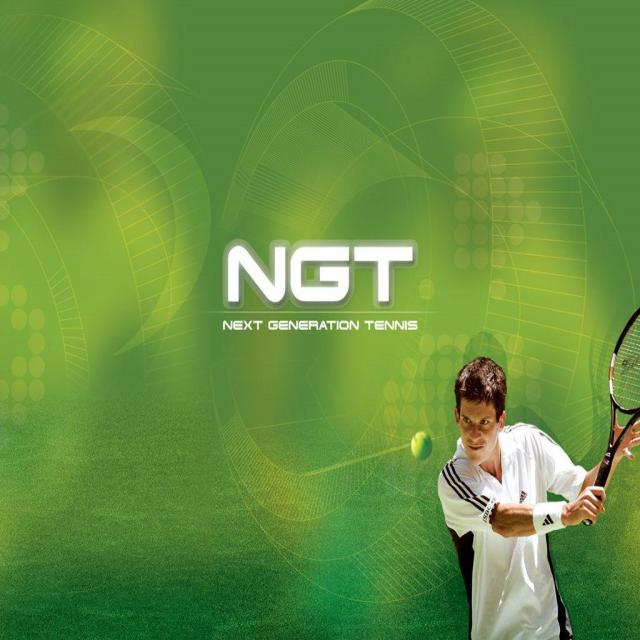nomask: (457, 393, 498, 467)
